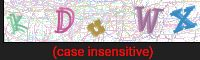D: (53, 6, 76, 35)
W: (130, 2, 165, 38)
X: (168, 2, 198, 35)
k: (7, 8, 32, 37)
u: (82, 16, 112, 38)
